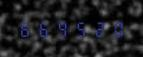five: (72, 20, 89, 37)
nine: (54, 20, 71, 37)
six: (17, 20, 34, 37), (35, 20, 52, 37)
two: (90, 20, 107, 37)
zero: (108, 20, 125, 37)
